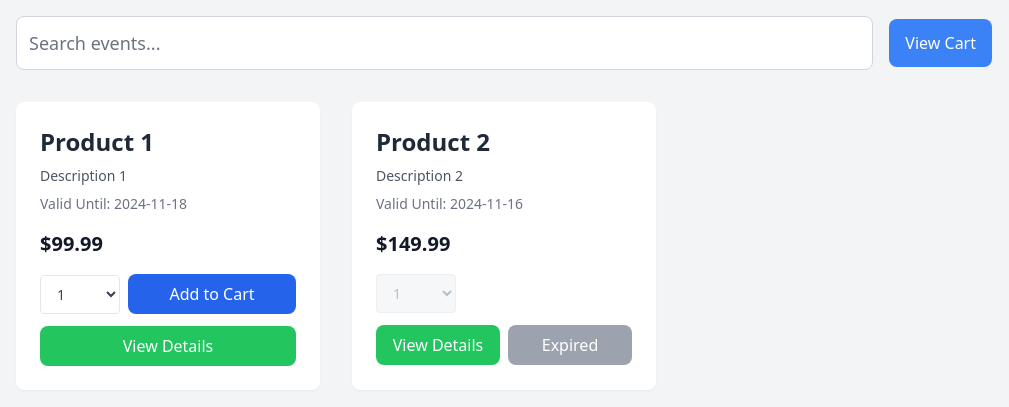
Test case: ProductList Component › search functionality filters products correctly
Type "Product 1" into the field with placeholder "Search events...".
click(445, 43); type("Product 1")  # box [16,16,873,70]
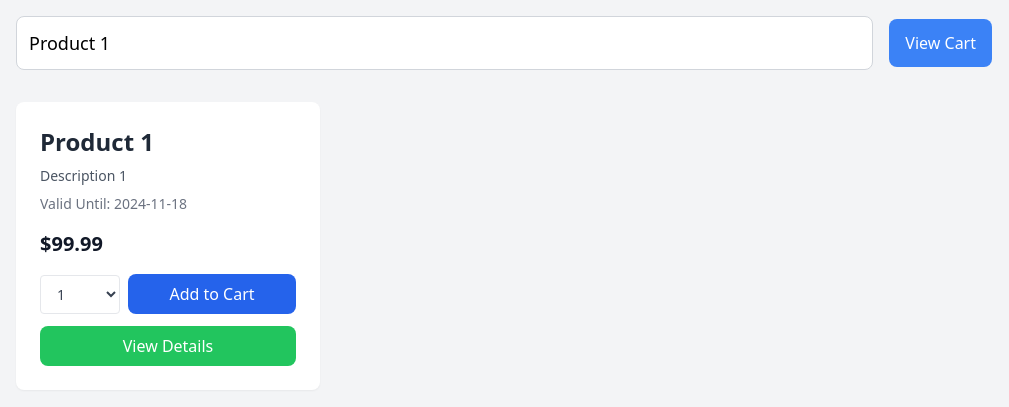
Expected: the heading "Product 1" is shown, [40,125,154,158]
Expected: the heading "Product 2" is gone
